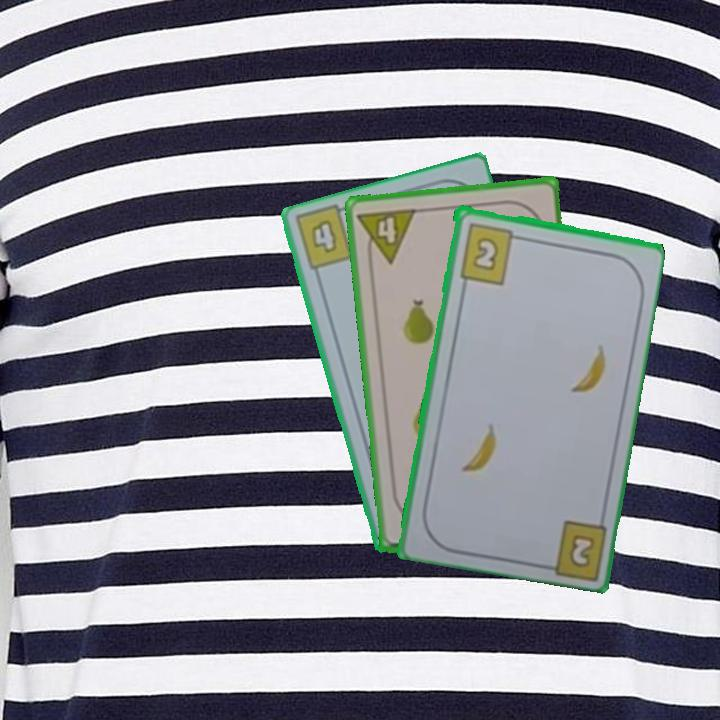2b: (455, 219, 525, 286), (568, 534, 594, 567)
4b: (307, 215, 340, 256)
4p: (354, 204, 419, 268)
